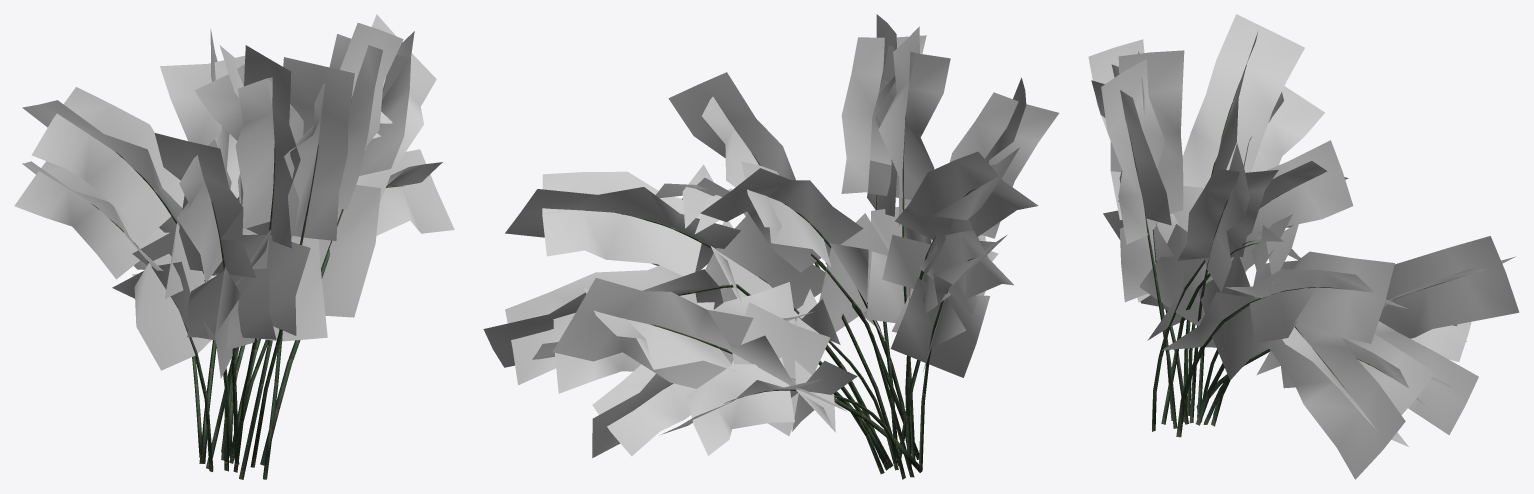
The model's file is Bambuk.FBX.
3 views of the same model, side by side, from view 1: azimuth 30°, elevation 25°; view 2: azimuth 150°, elevation 25°; view 3: azimuth 270°, elevation 25° (orthographic). The views are drawn at different scales.
Visible parts, largest first — view 1: Bambuk; view 2: Bambuk; view 3: Bambuk.
Part boxes in pixels (x1=…): Bambuk: x1=14, y1=14, x2=454, y2=479; Bambuk: x1=483, y1=14, x2=1059, y2=479; Bambuk: x1=1088, y1=14, x2=1519, y2=479.
Bounding box in the file's own units: 88.11 × 73.31 × 75.16.
